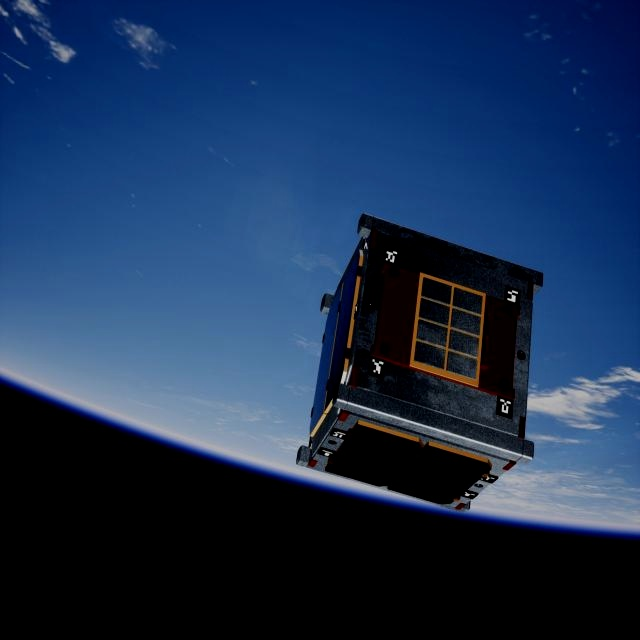satellite: (288, 211, 566, 516)
